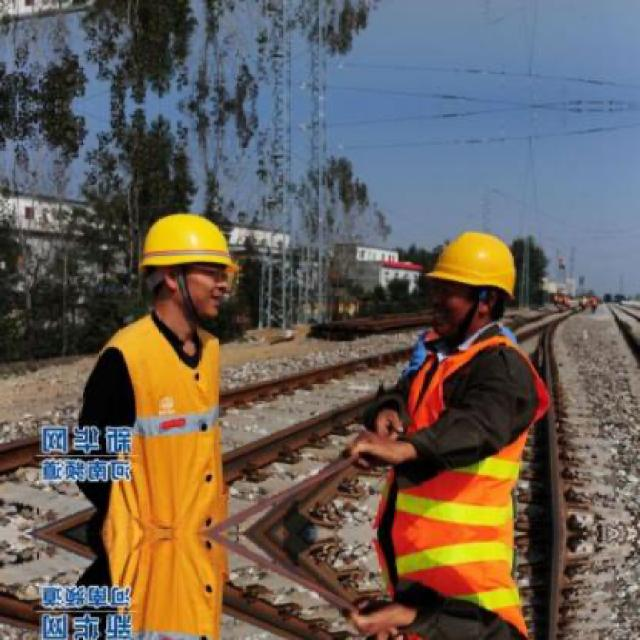con casco: (469, 207, 528, 292)
